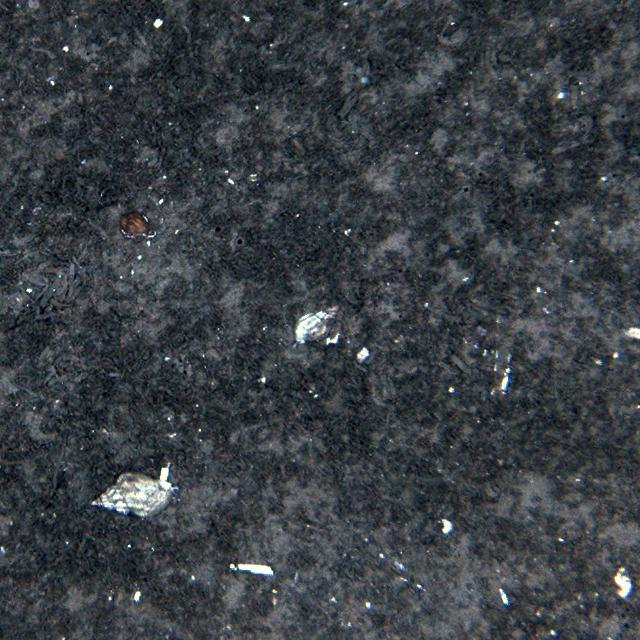whelk: (95, 472, 171, 519), (288, 304, 338, 344)
